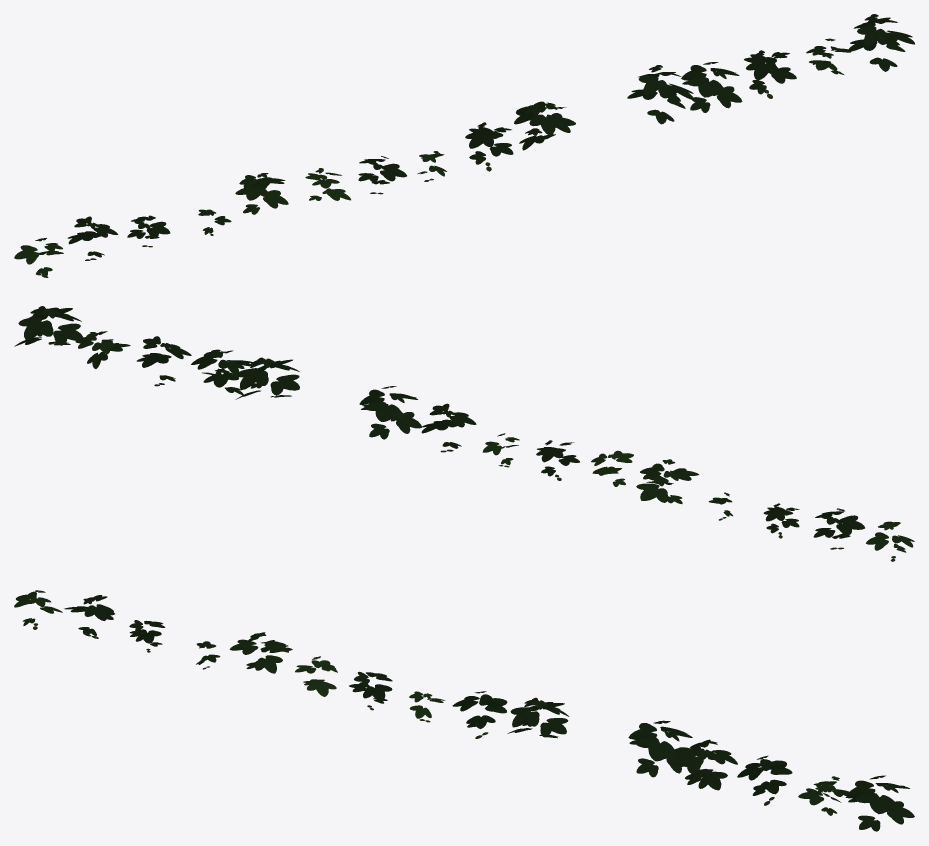
The model's file is ROW_01_SEG1_foliage.dae.
3 views of the same model, one above another, from view 1: azimuth 30°, elevation 25°; view 2: azimuth 150°, elevation 25°; view 3: azimuth 330°, elevation 25° (orthographic).
Visible parts, largest first — view 1: ROW_01_SEG1_foliage; view 2: ROW_01_SEG1_foliage; view 3: ROW_01_SEG1_foliage.
Part boxes in pixels (left/top/right/bottom): ROW_01_SEG1_foliage: left=14, top=14, right=914, bottom=277; ROW_01_SEG1_foliage: left=14, top=306, right=914, bottom=561; ROW_01_SEG1_foliage: left=14, top=590, right=914, bottom=831.
Size of the model in its own units: 4.84 by 0.3644 by 0.279.
